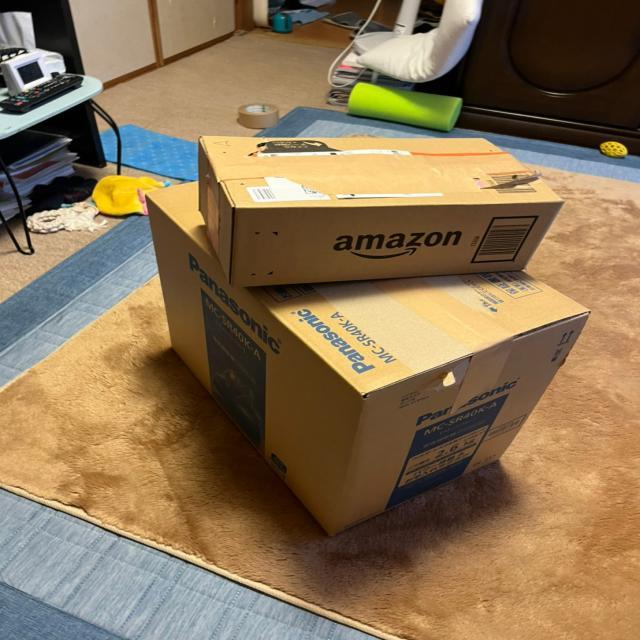-: (139, 148, 600, 538), (189, 127, 573, 294)
